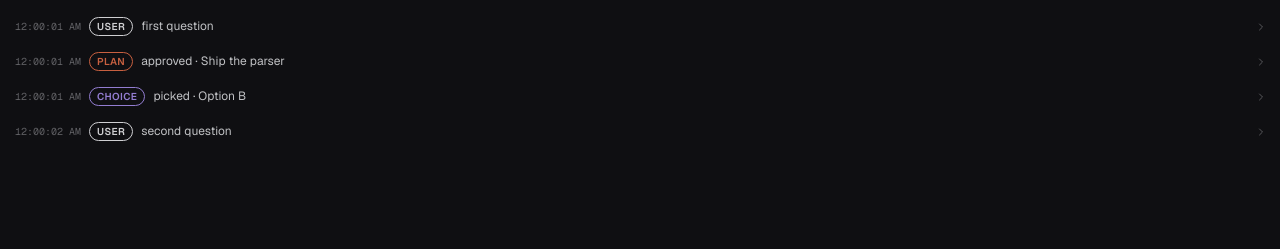
Test: events › EventsPanel › expands a row's details from its chevron, not from the row
What coordinates should you click on to do the following:
click the 1st button named "Show event details"
I would click on:
 (1261, 26)
Its box is [1251,11,1271,42].
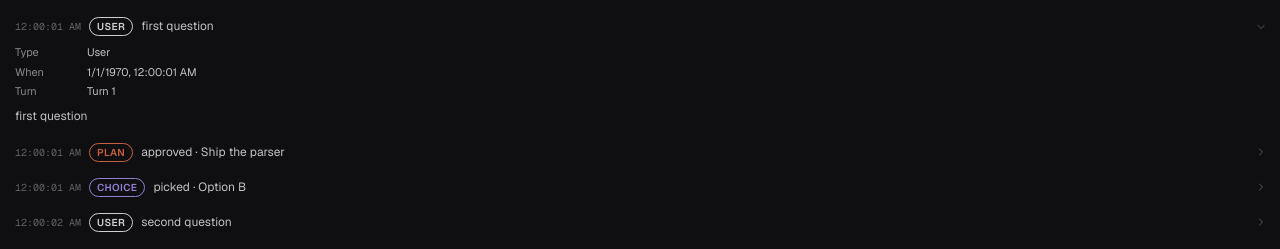
Expected: the 1st button named "Show event details" is expanded
Expected: the element with class "ctx-evt-body" is shown, [15,45,196,124]
What coordinates should you click on to do the following:
click the 1st button named "Show event details"
I would click on:
 (1261, 26)
Its box is [1251,11,1271,42].
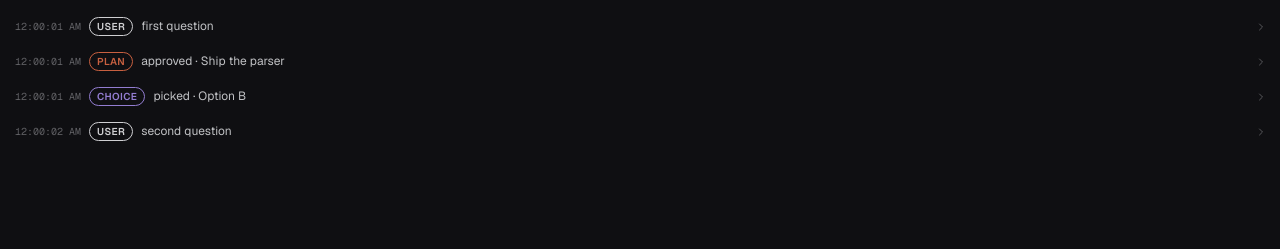
Expected: the element with class "ctx-evt-body" is gone
